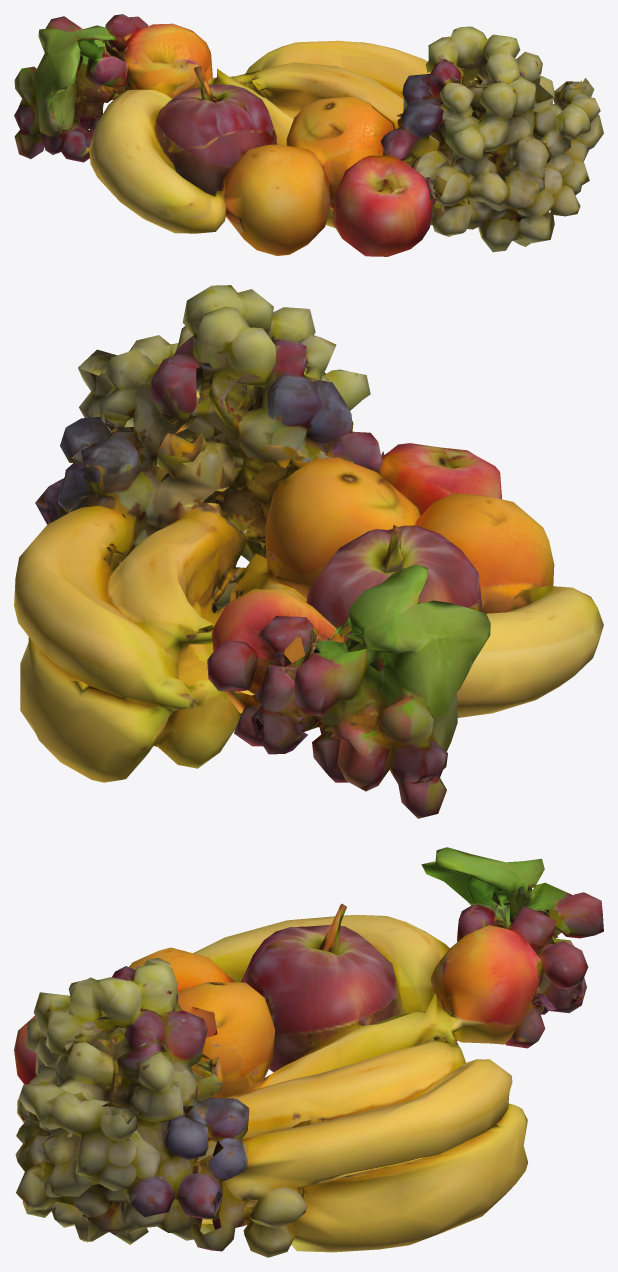
The model's file is fruits.glb.
3 views of the same model, one above another, from view 1: azimuth 30°, elevation 25°; view 2: azimuth 150°, elevation 25°; view 3: azimuth 270°, elevation 25° (orthographic). The views are drawn at different scales.
Size of the model in its own units: 65554 by 32894 by 65169.
1 material, 1 textured.
